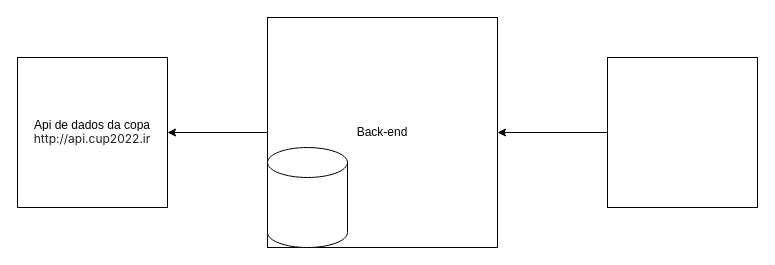
This 775x265 diagram has some shape labels left out. The centre of each missing label's shape, as x and y in pixels:
"Banco de dados no servidor" belongs at point 307,197.
"Front-end Angular no firebase" belongs at point 682,132.
